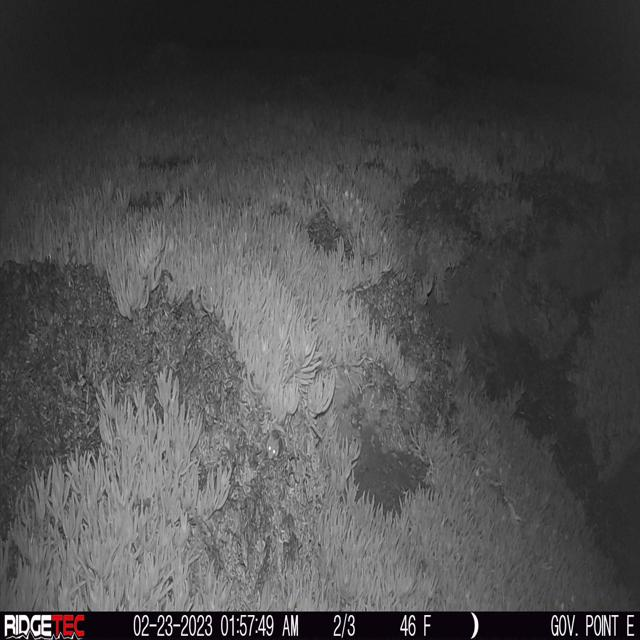rodent: (255, 415, 288, 462)
